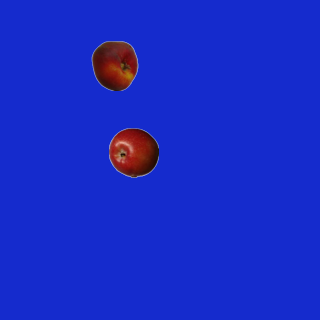Apple Braeburn: (108, 127, 158, 177)
Nectarine Flat: (89, 40, 139, 90)
